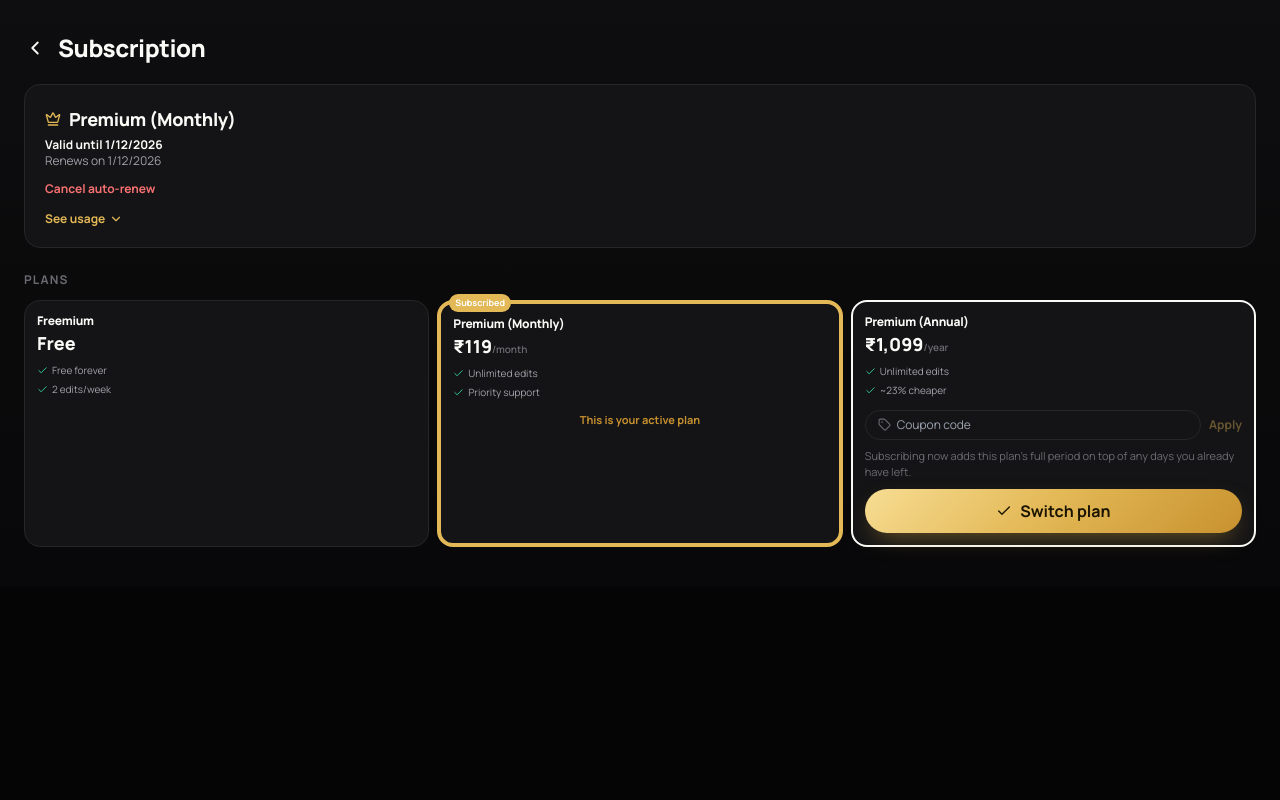
Test: Subscription screen › shows the usage toggle and table for a Premium user as well
Click the button with test id "subscription-usage-toggle-btn".
click(84, 219)  # box [45,211,123,227]
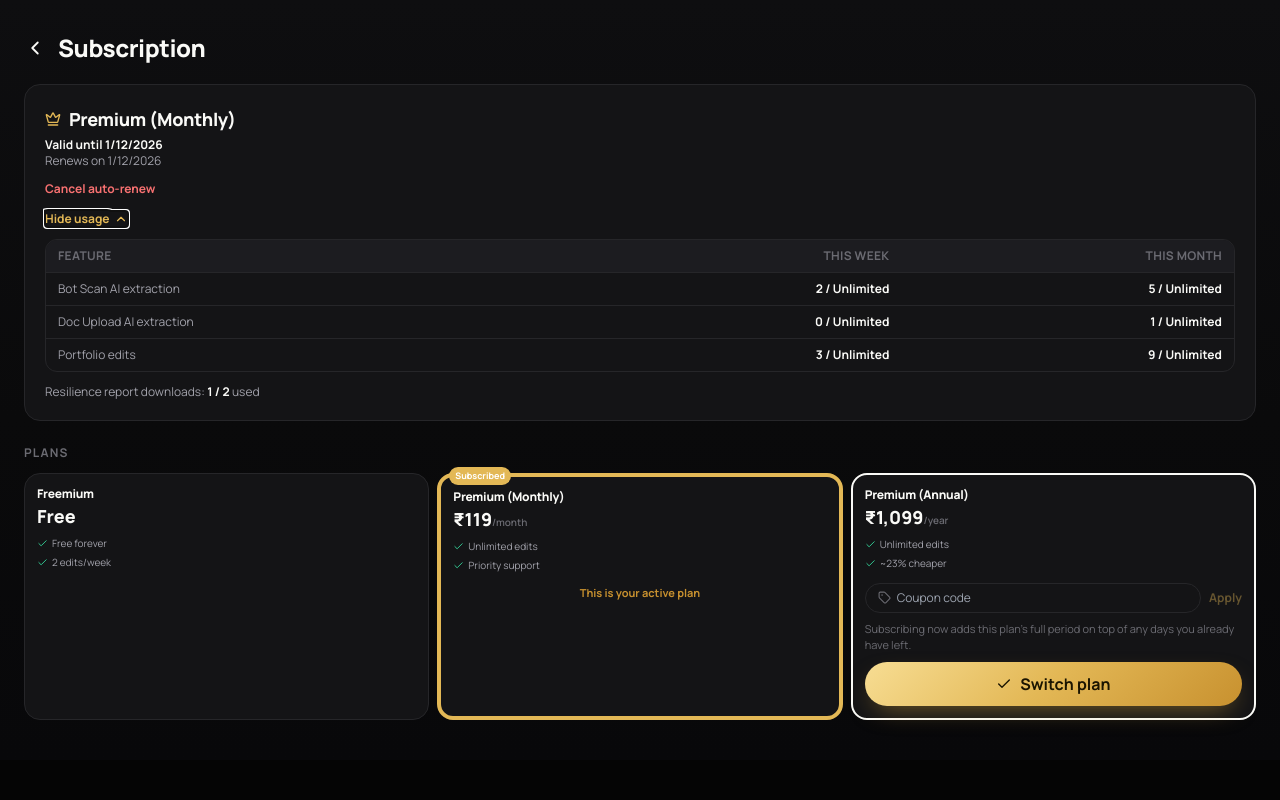
Check: the element with test id "subscription-usage-table" is shown, box [45,239,1235,372]
Check: the row with test id "subscription-usage-row-portfolio_edit" shows "3 / Unlimited", box [46,338,1234,371]
